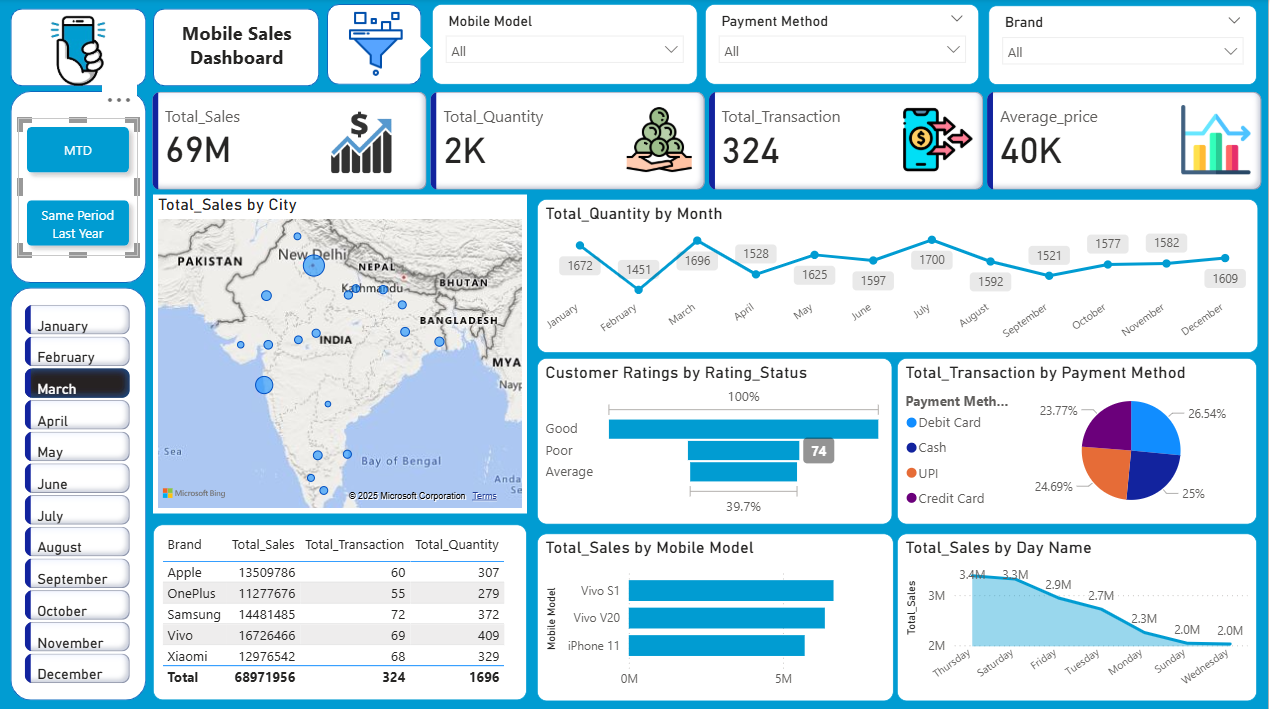

What the dashboard file says about the page in this screenshot:
{"tool":"powerbi","page":{"name":"Dashboard","canvas":[1280,720],"ordinal":0},"visuals":[{"type":"shape","box":[10.8,10.8,136.9,78.5],"z":0},{"type":"image","box":[27.7,0,103.1,106.2],"z":1000},{"type":"shape","box":[10.8,93.8,136.9,193.8],"z":2000},{"type":"shape","box":[10.8,292.3,136.9,416.9],"z":3000},{"type":"advancedSlicerVisual","fields":{"Values":["Custom_Calender.Date.Variation.Date Hierarchy.Month"]},"box":[20,304.6,116.9,393.8],"z":4000},{"type":"cardVisual","fields":{"Data":["Sales_Data.Total_Sales","Sales_Data.Total_Quantity","Sales_Data.Total_Transaction","Sales_Data.Average_price"]},"box":[147.7,89.2,1132.3,109.2],"z":5000},{"type":"slicer","fields":{"Values":["Sales_Data.Mobile Model"]},"box":[435.4,6.2,267.7,81.5],"z":6000},{"type":"slicer","fields":{"Values":["Sales_Data.Payment Method"]},"box":[712.3,6.2,276.9,81.5],"z":7000},{"type":"slicer","fields":{"Values":["Sales_Data.Brand"]},"box":[998.5,7.7,270.8,80],"z":8000},{"type":"shape","box":[330.8,6.2,95.4,81.5],"z":9000},{"type":"shape","box":[153.8,10.8,167.7,78.5],"z":10000},{"type":"shape","box":[386.2,36.9,49.2,27.7],"z":11000},{"type":"image","box":[340,7.7,76.9,76.9],"z":12000},{"type":"textbox","box":[158.5,16.9,160,60],"z":13000},{"type":"lineChart","fields":{"Category":["Custom_Calender.Date.Variation.Date Hierarchy.Month"],"Y":["Sales_Data.Total_Quantity"]},"box":[541.5,203.1,727.7,155.4],"z":14000},{"type":"funnel","title":"Customer Ratings by Rating_Status","fields":{"Y":["CountNonNull(Sales_Data.Customer Ratings)"],"Category":["Sales_Data.Rating_Status"]},"box":[542.1,363.4,358.9,168.1],"z":15000},{"type":"pieChart","fields":{"Category":["Sales_Data.Payment Method"],"Y":["Sales_Data.Total_Transaction"]},"box":[905.5,363.4,363.4,168.1],"z":16000},{"type":"clusteredBarChart","fields":{"Y":["Sales_Data.Total_Sales"],"Category":["Sales_Data.Mobile Model"]},"box":[541.5,540,360,169.2],"z":17000},{"type":"areaChart","fields":{"Y":["Sales_Data.Total_Sales"],"Category":["Custom_Calender.Day Name"]},"box":[906.2,540,363.1,169.2],"z":18000},{"type":"tableEx","fields":{"Values":["Sales_Data.Brand","Sales_Data.Total_Sales","Sales_Data.Total_Transaction","Sales_Data.Total_Quantity"]},"box":[154.4,531.5,377,177.2],"z":19000},{"type":"map","fields":{"Category":["Sales_Data.City"],"Size":["Sales_Data.Total_Sales"]},"box":[154.4,198.4,377,321],"z":20000},{"type":"pageNavigator","box":[18.2,121.1,121.1,139.3],"z":20001}]}

Visuals, with their boxes in screenshot pixels (x1, y1, x2, y2), scaled from the page's 1280x720 canvas onto the 1270x709 screenshot:
shape: {"x1": 11, "y1": 11, "x2": 147, "y2": 88}
image: {"x1": 27, "y1": 0, "x2": 130, "y2": 105}
shape: {"x1": 11, "y1": 92, "x2": 147, "y2": 283}
shape: {"x1": 11, "y1": 288, "x2": 147, "y2": 698}
advancedSlicerVisual - Custom_Calender.Date.Variation.Date Hierarchy.Month: {"x1": 20, "y1": 300, "x2": 136, "y2": 688}
cardVisual - Sales_Data.Total_Sales x Sales_Data.Total_Quantity: {"x1": 147, "y1": 88, "x2": 1269, "y2": 195}
slicer - Sales_Data.Mobile Model: {"x1": 432, "y1": 6, "x2": 698, "y2": 86}
slicer - Sales_Data.Payment Method: {"x1": 707, "y1": 6, "x2": 981, "y2": 86}
slicer - Sales_Data.Brand: {"x1": 991, "y1": 8, "x2": 1259, "y2": 86}
shape: {"x1": 328, "y1": 6, "x2": 423, "y2": 86}
shape: {"x1": 153, "y1": 11, "x2": 319, "y2": 88}
shape: {"x1": 383, "y1": 36, "x2": 432, "y2": 64}
image: {"x1": 337, "y1": 8, "x2": 414, "y2": 83}
textbox: {"x1": 157, "y1": 17, "x2": 316, "y2": 76}
lineChart - Custom_Calender.Date.Variation.Date Hierarchy.Month x Sales_Data.Total_Quantity: {"x1": 537, "y1": 200, "x2": 1259, "y2": 353}
"Customer Ratings by Rating_Status" funnel: {"x1": 538, "y1": 358, "x2": 894, "y2": 523}
pieChart - Sales_Data.Payment Method x Sales_Data.Total_Transaction: {"x1": 898, "y1": 358, "x2": 1259, "y2": 523}
clusteredBarChart - Sales_Data.Total_Sales x Sales_Data.Mobile Model: {"x1": 537, "y1": 532, "x2": 894, "y2": 698}
areaChart - Sales_Data.Total_Sales x Custom_Calender.Day Name: {"x1": 899, "y1": 532, "x2": 1259, "y2": 698}
tableEx - Sales_Data.Brand x Sales_Data.Total_Sales: {"x1": 153, "y1": 523, "x2": 527, "y2": 698}
map - Sales_Data.City x Sales_Data.Total_Sales: {"x1": 153, "y1": 195, "x2": 527, "y2": 511}
pageNavigator: {"x1": 18, "y1": 119, "x2": 138, "y2": 256}
